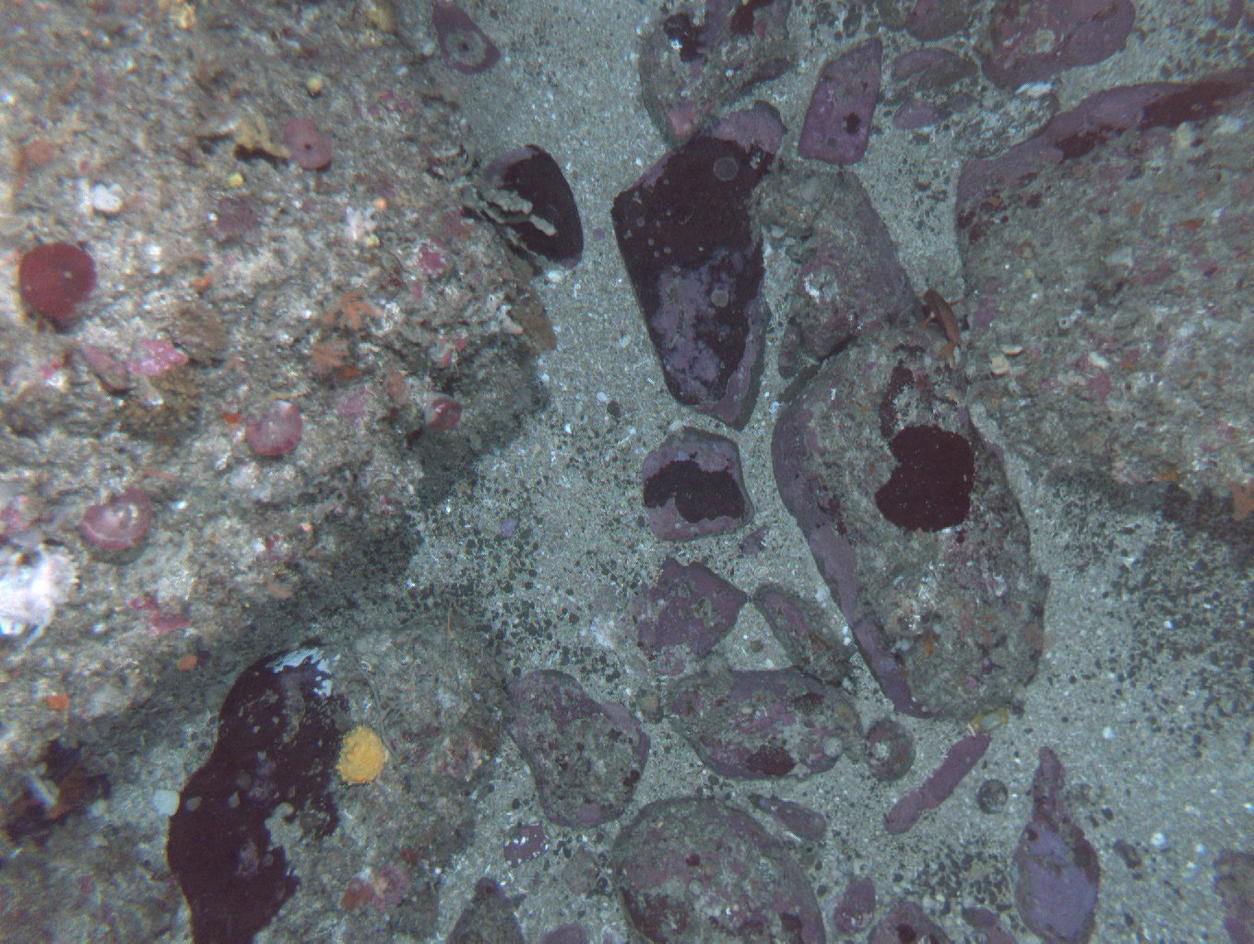Brachionichthyidae: (917, 287, 968, 360)
